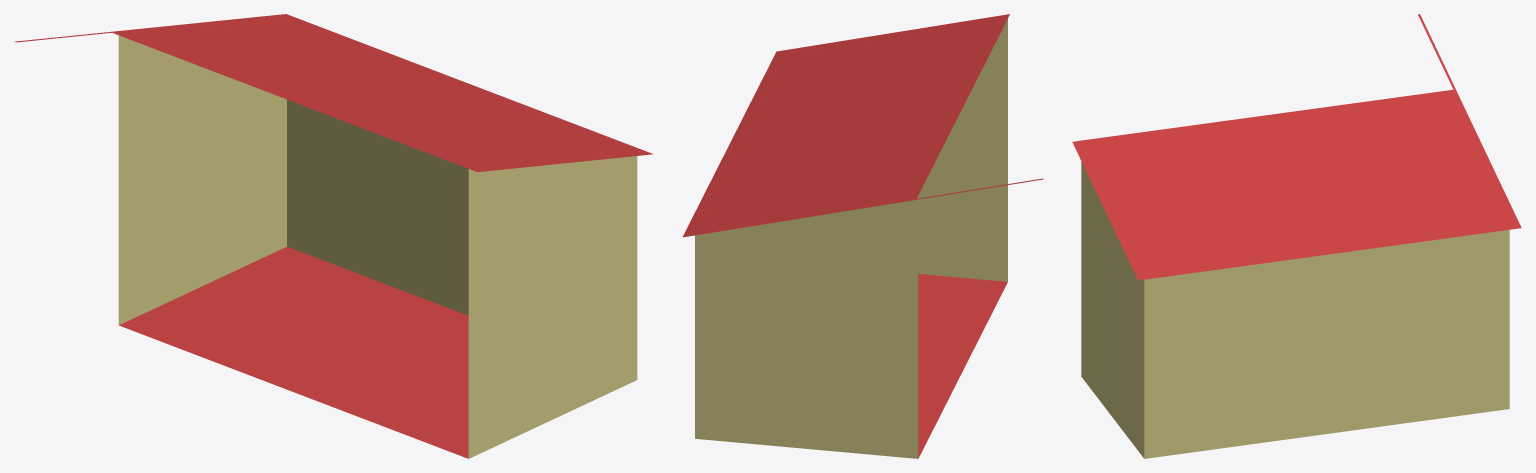
The picture shows the model from 3 angles, left to right: view 1: azimuth 30°, elevation 25°; view 2: azimuth 150°, elevation 25°; view 3: azimuth 270°, elevation 25°; orthographic projection. The views are drawn at different scales.
Bounding box in the file's own units: 11.35 × 11.63 × 7.56.
